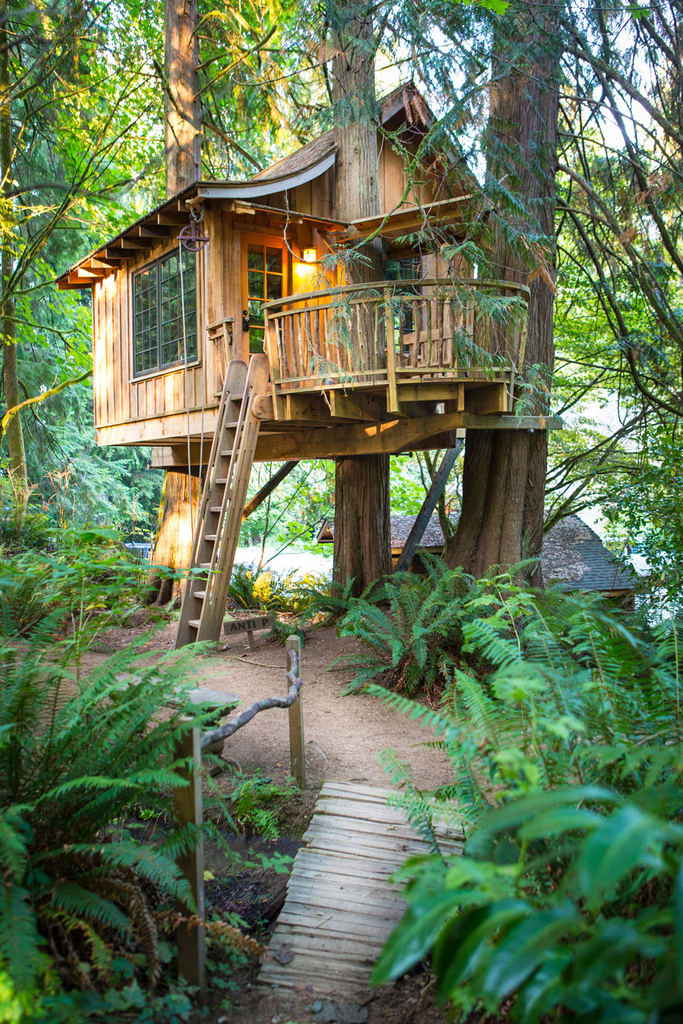Tree: (0, 0, 683, 707)
